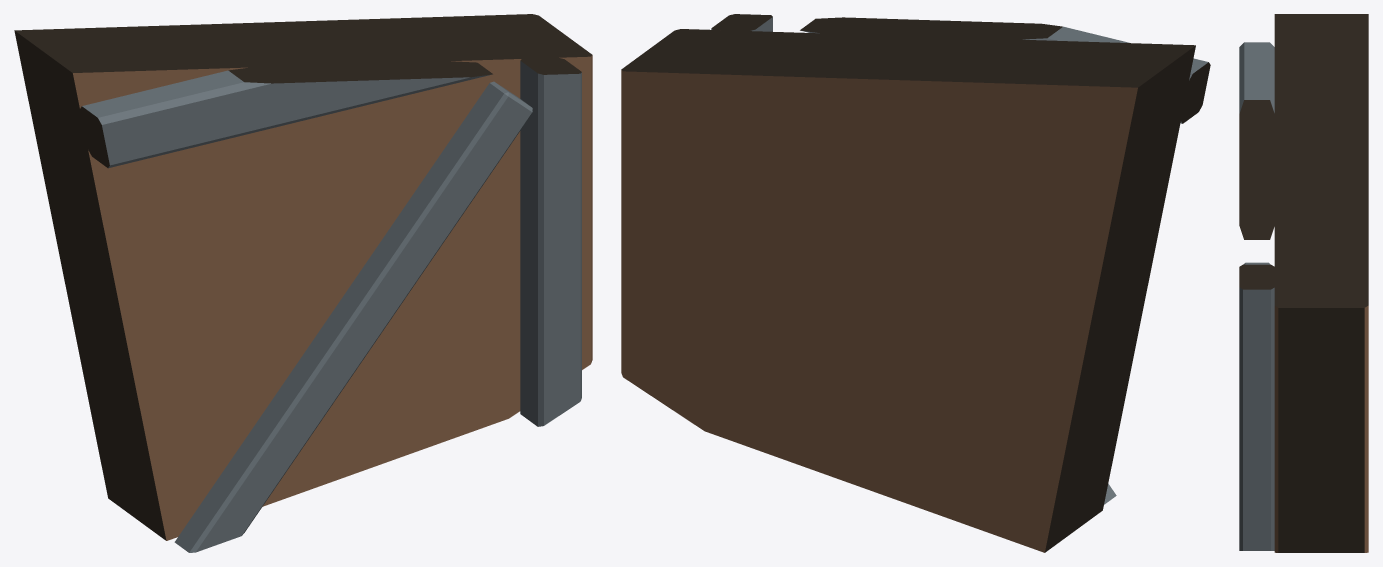
The model's file is SM_DoorShard_03_49.fbx.
3 views of the same model, side by side, from view 1: azimuth 30°, elevation 25°; view 2: azimuth 150°, elevation 25°; view 3: azimuth 270°, elevation 25° (orthographic). The views are drawn at different scales.
Visible parts, largest first — view 1: SM_DoorShard_03_49; view 2: SM_DoorShard_03_49; view 3: SM_DoorShard_03_49.
Part boxes in pixels (x1,y1,x2,y2): SM_DoorShard_03_49: (14, 14, 592, 552); SM_DoorShard_03_49: (621, 14, 1210, 552); SM_DoorShard_03_49: (1239, 14, 1368, 552).
Size of the model in its own units: 82.63 by 22 by 74.22.
